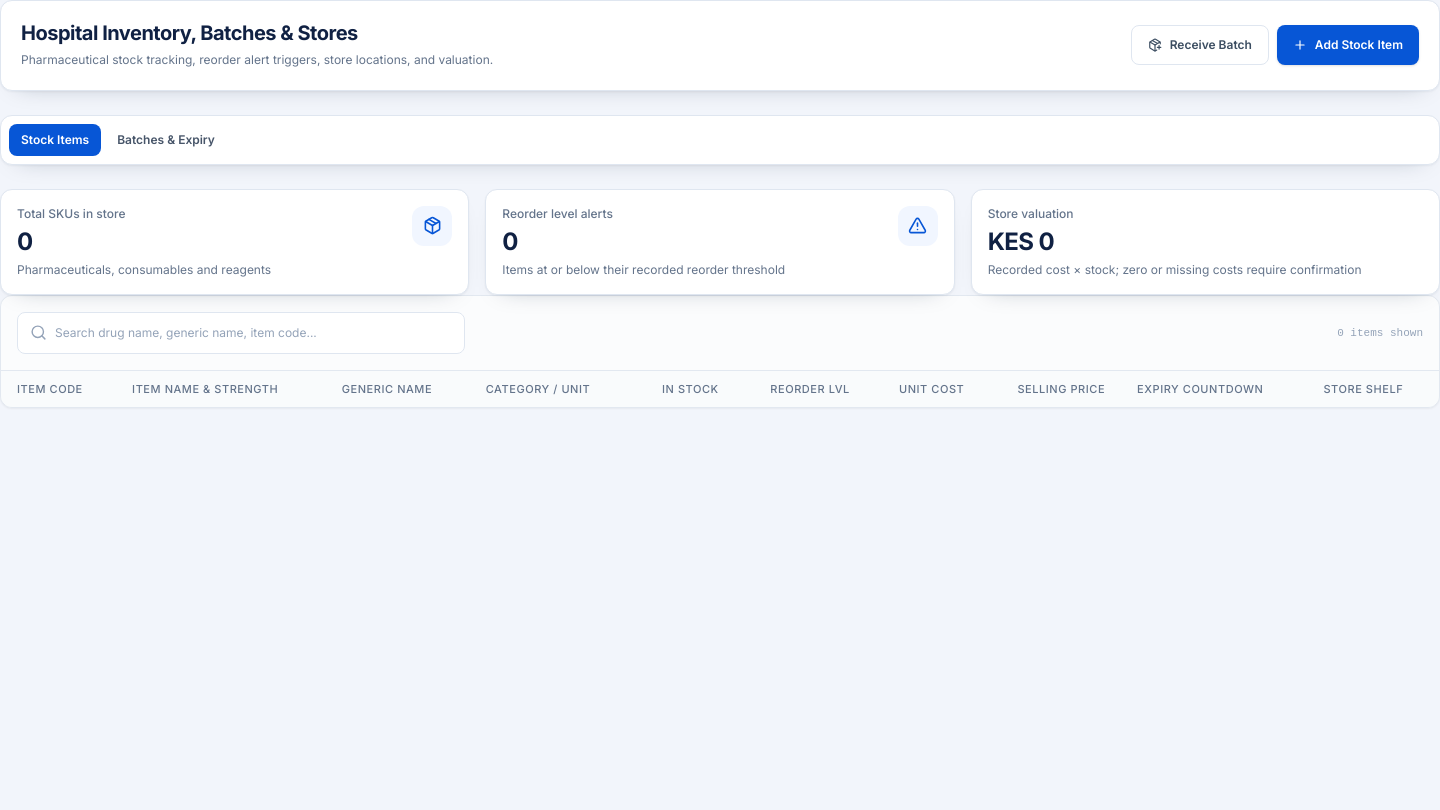
unified workflow regressions › does not fabricate inventory item, quantity, unit price or batch inputs
Click the button "Add Stock Item" at {"x": 1348, "y": 45}, box [1277,25,1419,65]
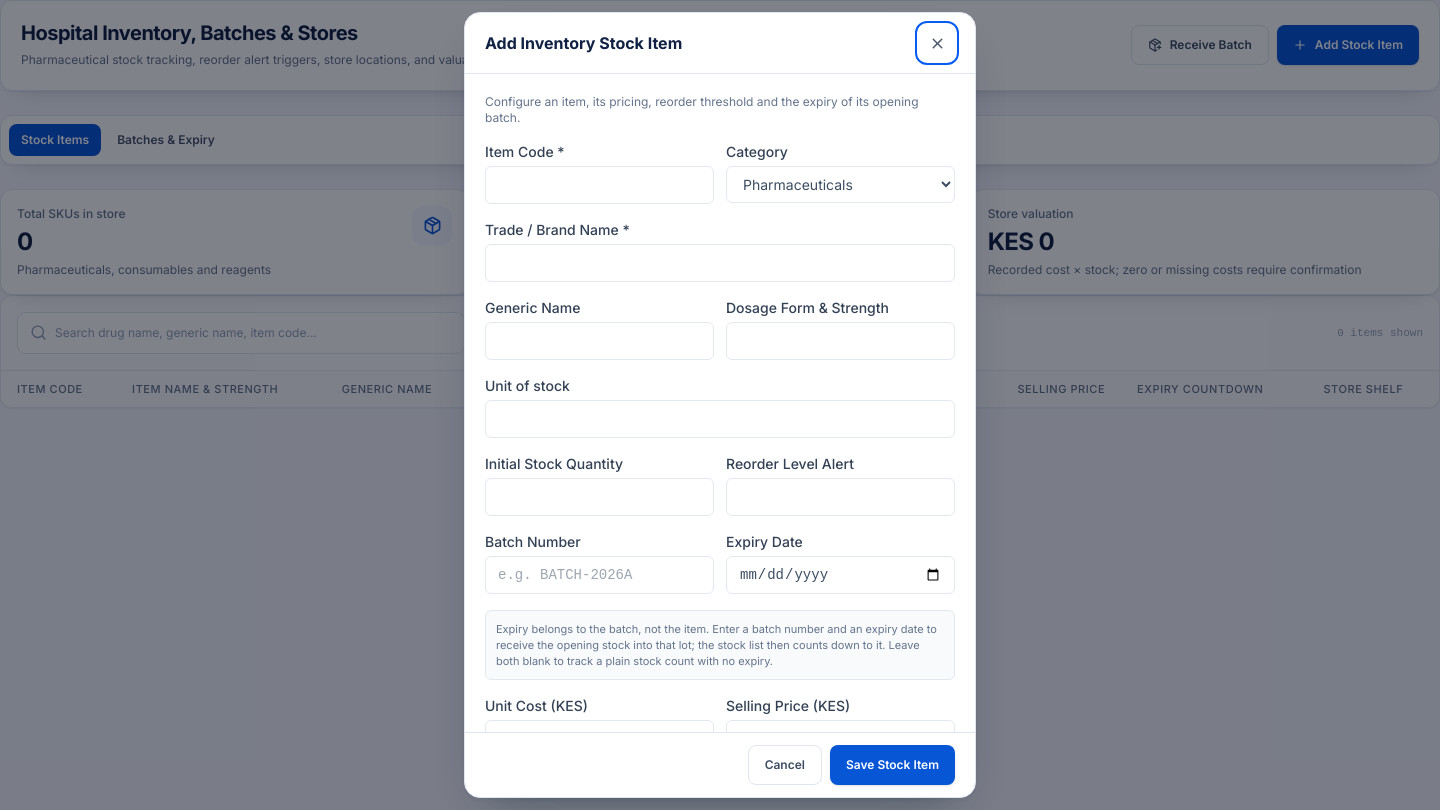
Check: the number field labelled "Initial Stock Quantity" is not empty, box [485,478,714,516]
Check: the field labelled "Item Code *" is empty, box [485,166,714,204]
Check: the field labelled "Trade / Brand Name *" is empty, box [485,244,955,282]
Click the button "Save Stock Item" at {"x": 892, "y": 765}, box [830,745,955,785]
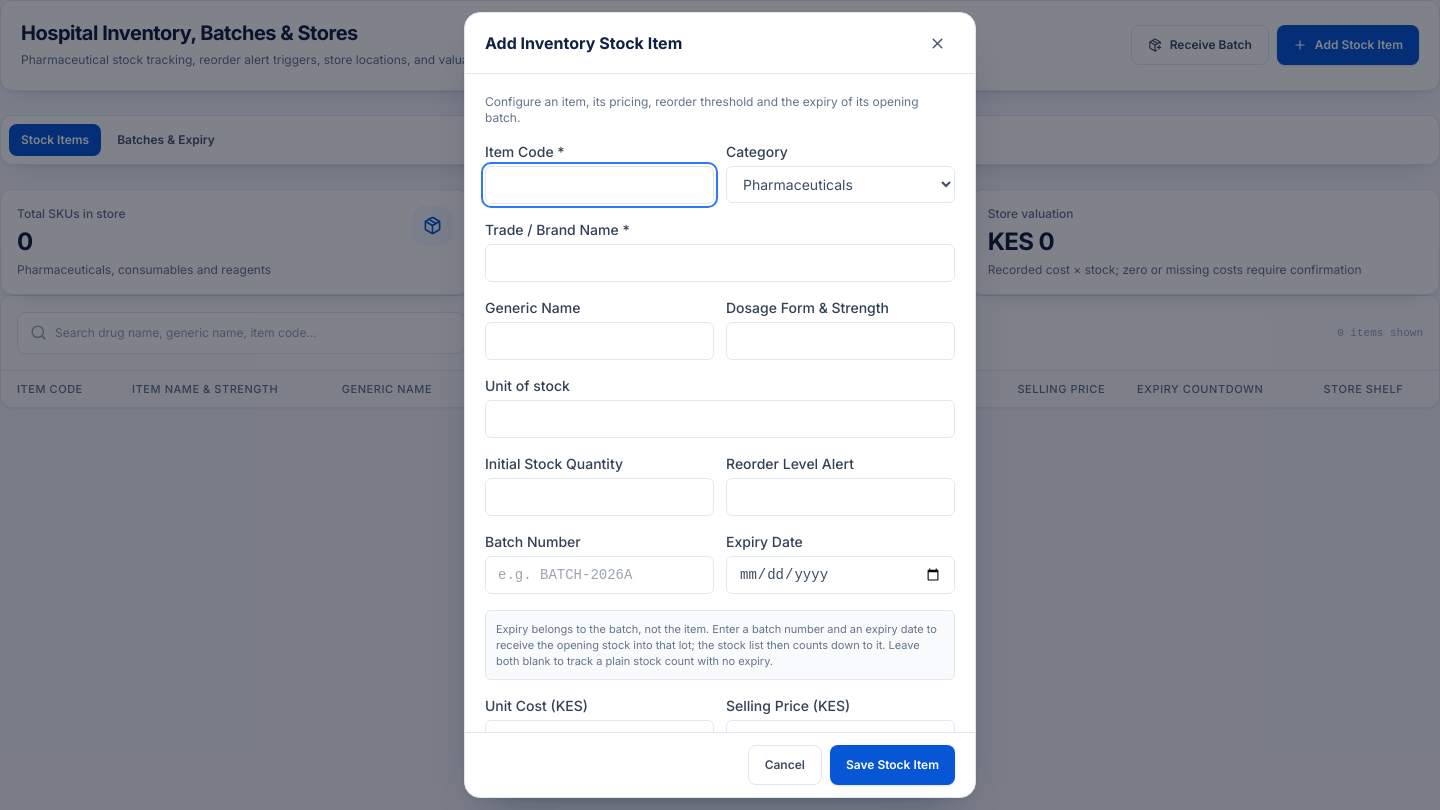
Press Escape
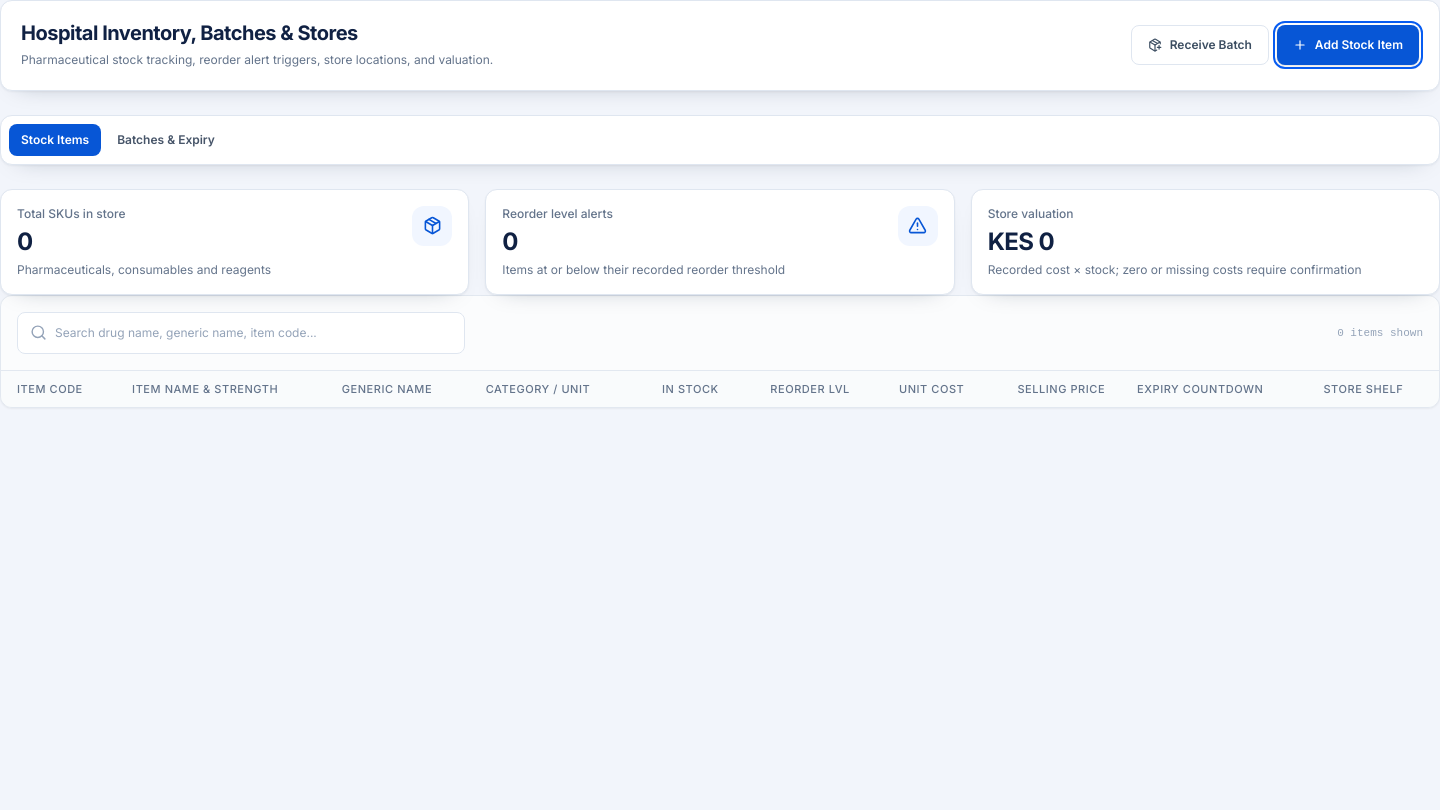
Click the button "Receive Batch" at {"x": 1200, "y": 45}, box [1131,25,1269,65]
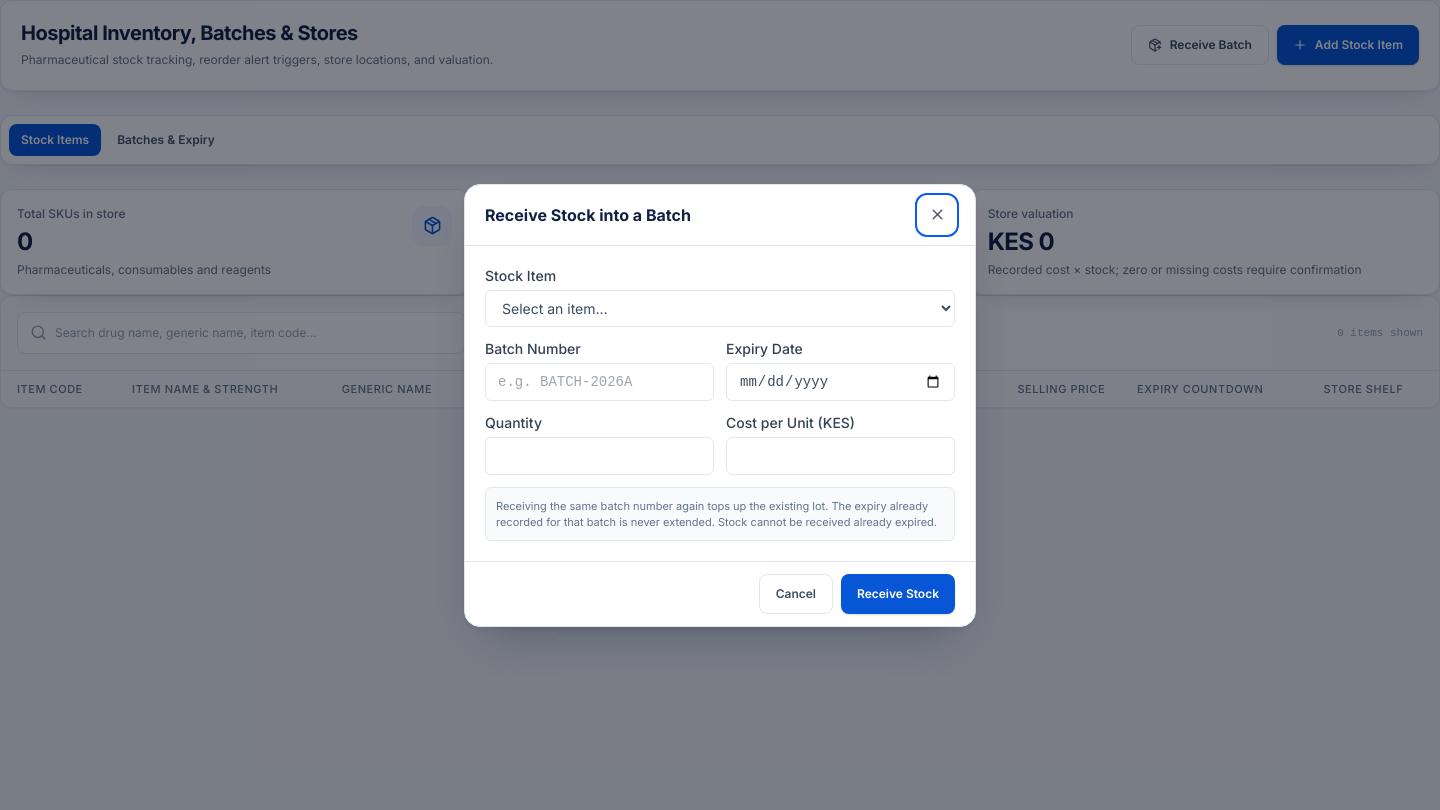
Check: the number field labelled "Quantity" is not empty, box [485,436,714,474]
Check: the dropdown labelled "Stock Item" shows "Select an item…", box [485,290,955,326]
